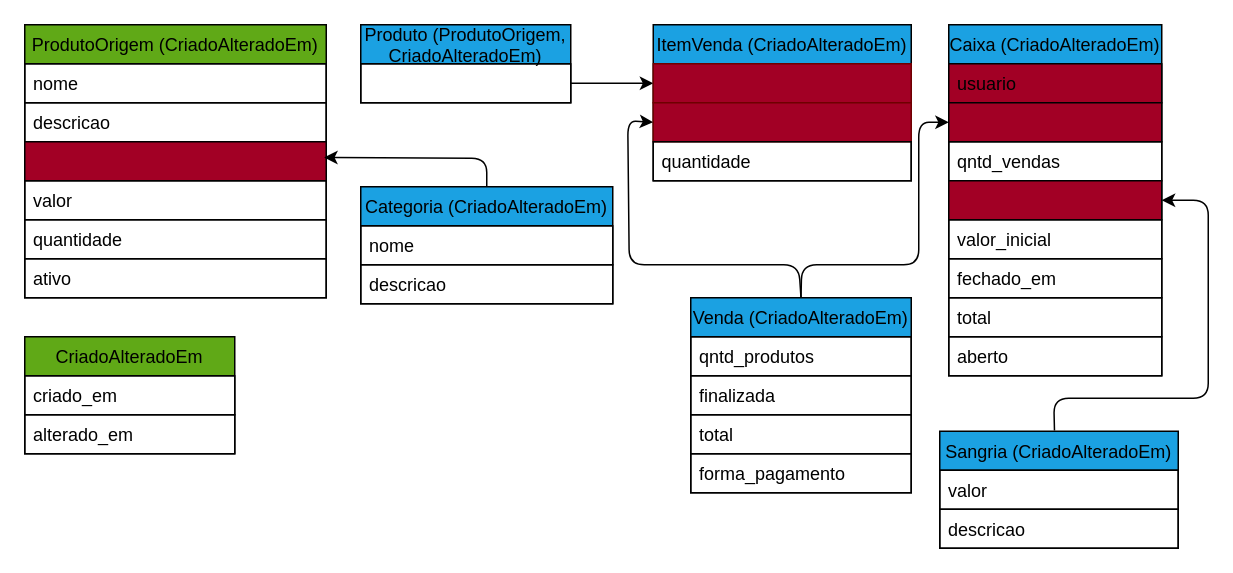
Image size: 1233x573. Some labels were removed from this diagram. Each missing label, with the centre of its shape:
"categoria" goes at point (174, 160).
"origem" goes at point (465, 82).
"produto" goes at point (781, 82).
"sangrias" goes at point (1054, 199).
"venda" goes at point (781, 121).
"vendas" goes at point (1054, 121).
